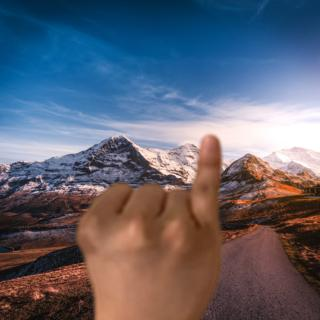FINE: (66, 130, 230, 320)
